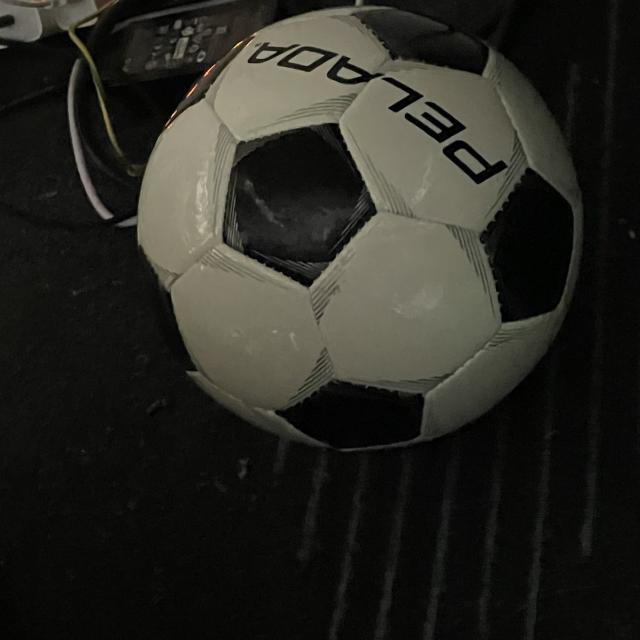soccer: (137, 4, 586, 454)
